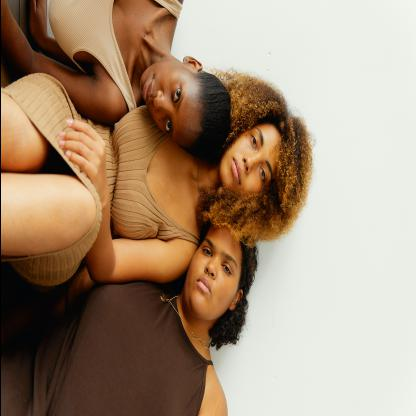Eye: (168, 84, 184, 104), (246, 130, 260, 152), (220, 258, 232, 280), (258, 162, 268, 188), (200, 242, 214, 260), (161, 118, 174, 134)
Mouth: (140, 72, 156, 104), (229, 154, 243, 188), (194, 275, 212, 296)
Nose: (152, 90, 172, 115), (203, 257, 221, 281), (242, 152, 260, 176)
